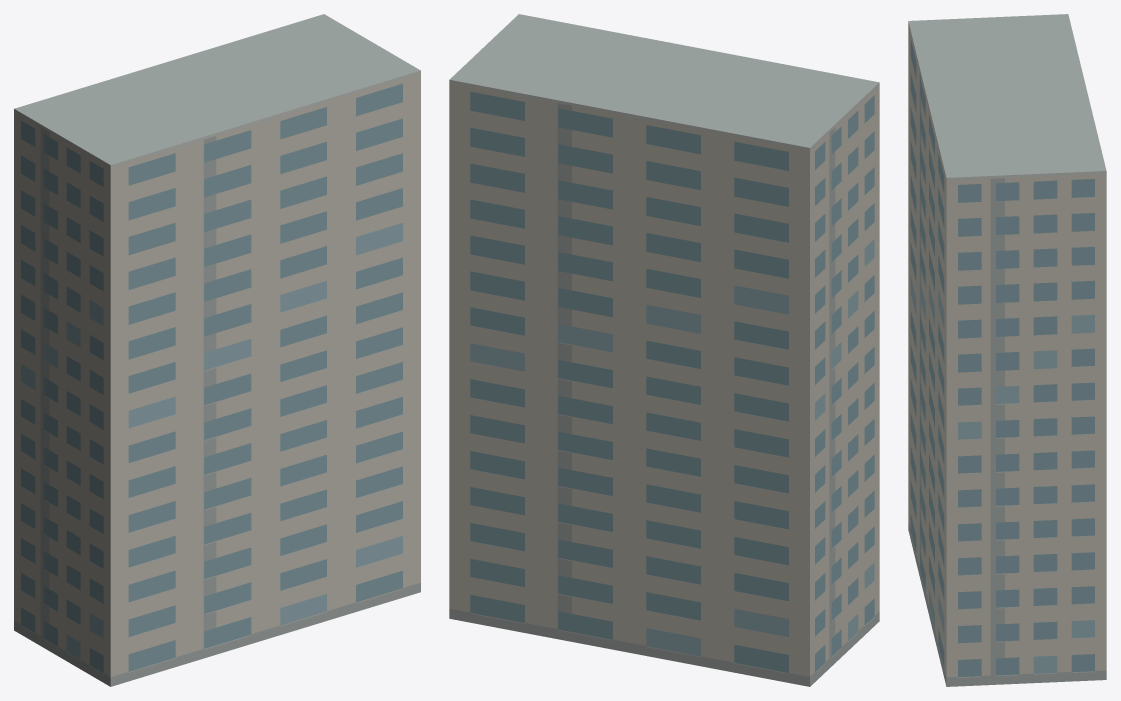
File: residential-dbe2ab75-2214-4546-91ea-aae610b2429e.glb
3 renders of one model, left to right at view 1: azimuth 30°, elevation 25°; view 2: azimuth 150°, elevation 25°; view 3: azimuth 270°, elevation 25°, orthographic. The views are drawn at different scales.
Parts seen in each view (by area): view 1: residential-dbe2ab75-2214-4546-91ea-aae610b2429e.tmp; view 2: residential-dbe2ab75-2214-4546-91ea-aae610b2429e.tmp; view 3: residential-dbe2ab75-2214-4546-91ea-aae610b2429e.tmp.
Part boxes in pixels (left/top/right/bottom): residential-dbe2ab75-2214-4546-91ea-aae610b2429e.tmp: left=14, top=14, right=420, bottom=686; residential-dbe2ab75-2214-4546-91ea-aae610b2429e.tmp: left=449, top=14, right=879, bottom=686; residential-dbe2ab75-2214-4546-91ea-aae610b2429e.tmp: left=908, top=14, right=1106, bottom=686.
Bounding box in the file's own units: 31.08 × 45 × 15.89.
